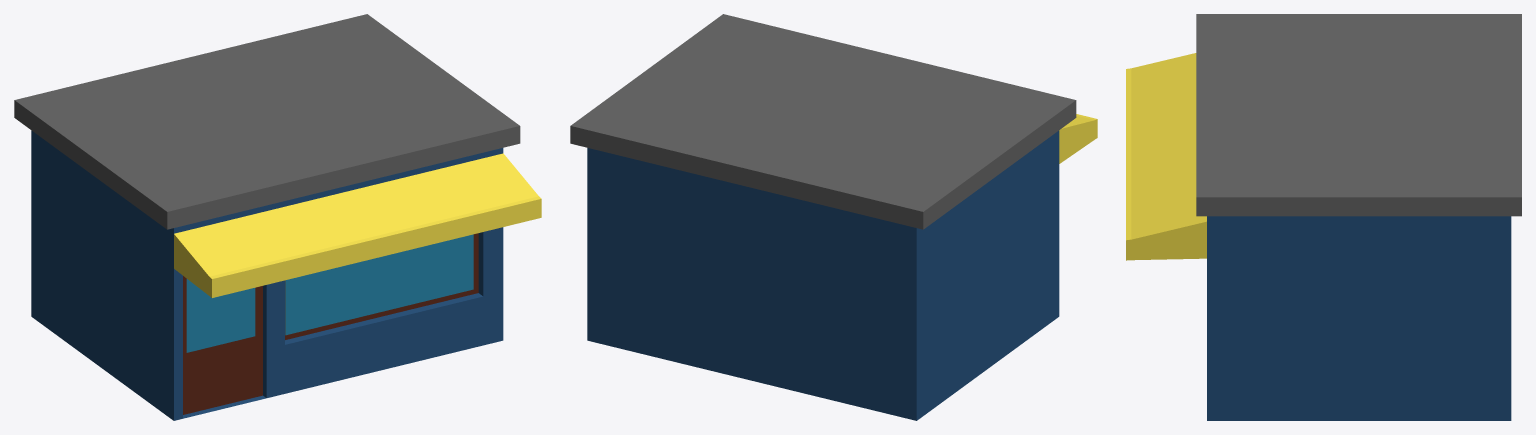
The model's file is kiosk.fbx.
3 renders of one model, left to right at view 1: azimuth 30°, elevation 25°; view 2: azimuth 150°, elevation 25°; view 3: azimuth 270°, elevation 25°, orthographic. The views are drawn at different scales.
Parts seen in each view (by area): view 1: kiosk; view 2: kiosk; view 3: kiosk.
Boxes of the visible parts, bbox=[...] form: kiosk: bbox=[14, 14, 541, 420]; kiosk: bbox=[570, 14, 1097, 420]; kiosk: bbox=[1126, 14, 1521, 420].
Size of the model in its own units: 428 by 250 by 391.
